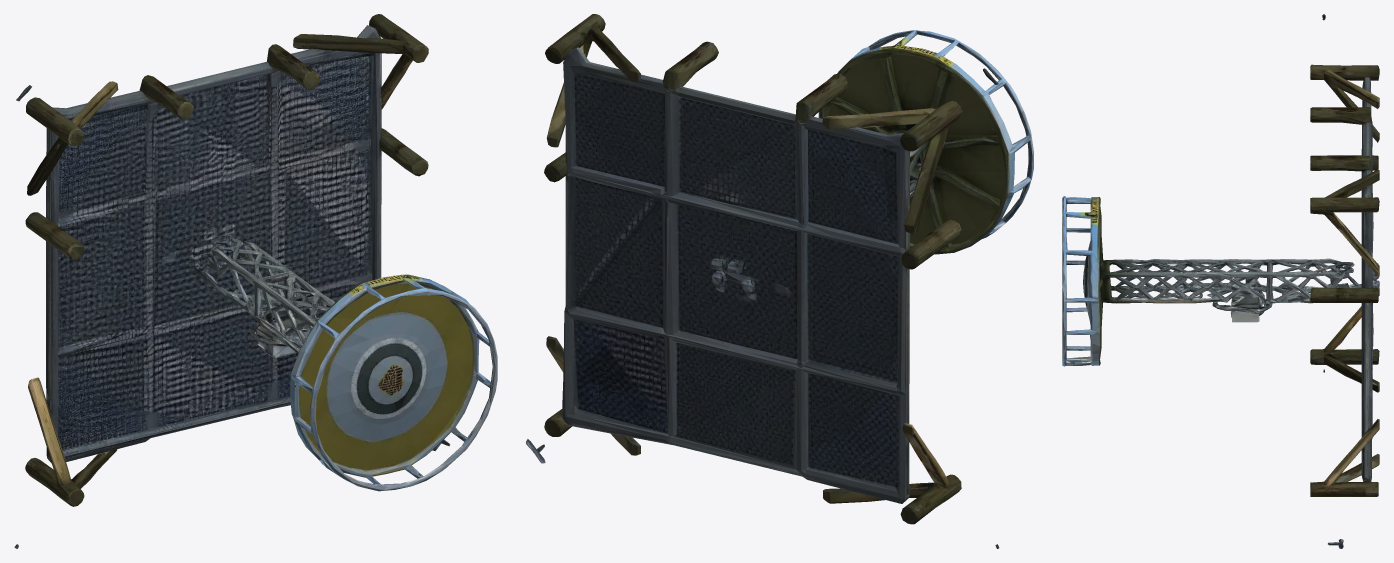
Rendered from tower.obj.
3 views of the same model, side by side, from view 1: azimuth 30°, elevation 25°; view 2: azimuth 150°, elevation 25°; view 3: azimuth 270°, elevation 25° (orthographic). The views are drawn at different scales.
Size of the model in its own units: 4.62 by 4.69 by 3.6.
1 material, 1 textured.
